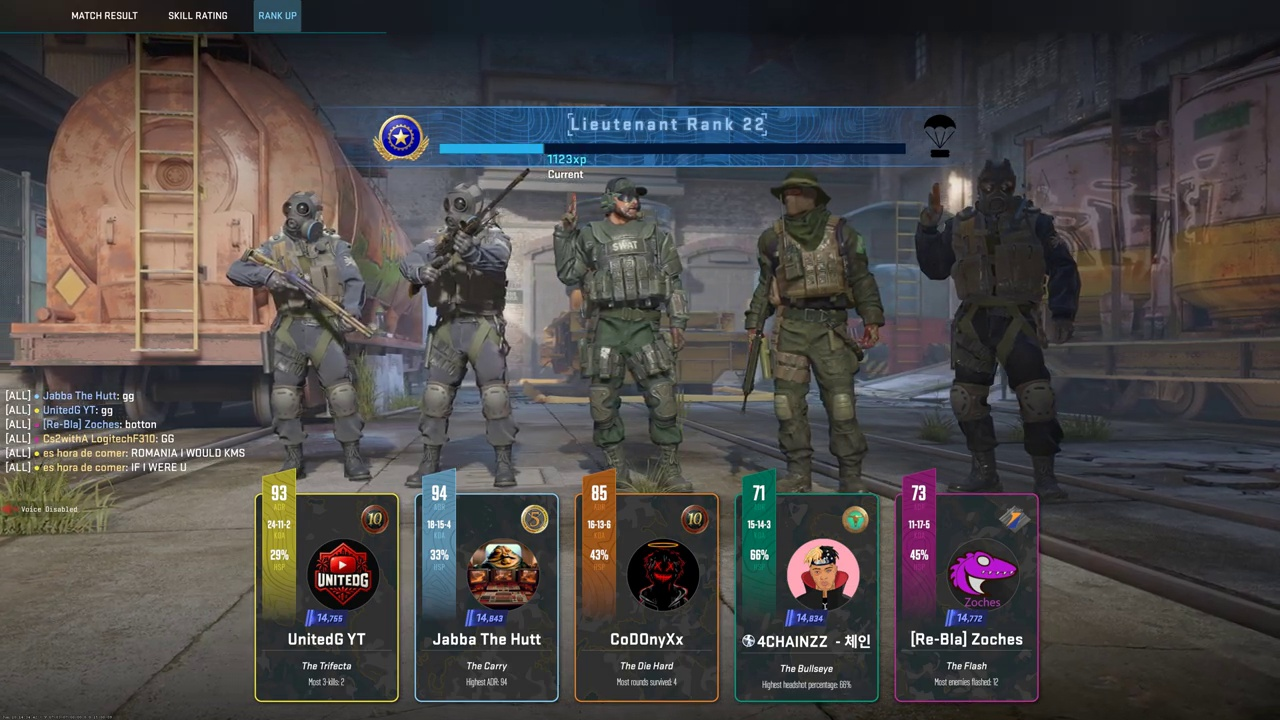CT: (940, 157, 1071, 502), (566, 177, 688, 478), (413, 183, 529, 490), (760, 171, 869, 489), (252, 192, 371, 479)
